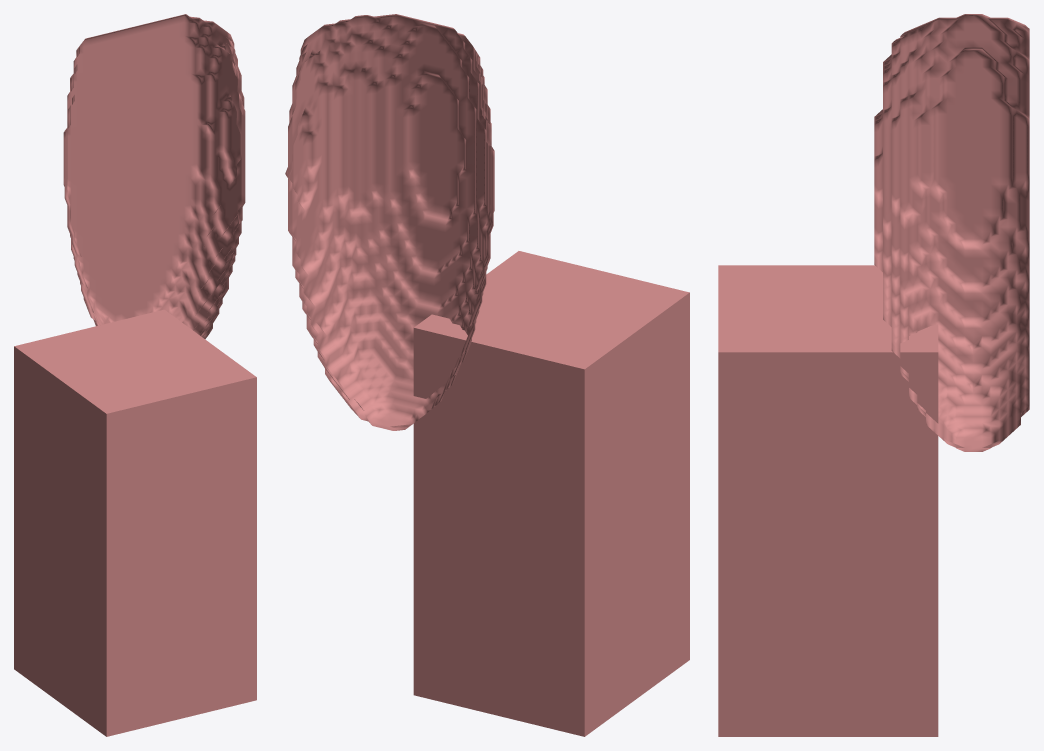
The model's file is 199511_occ.glb.
The picture shows the model from 3 angles, left to right: view 1: azimuth 30°, elevation 25°; view 2: azimuth 150°, elevation 25°; view 3: azimuth 270°, elevation 25°; orthographic projection. The views are drawn at different scales.
Visible parts, largest first — view 1: world; view 2: world; view 3: world.
Part boxes in pixels (<box>): world: <box>14,14,256,736</box>; world: <box>285,14,689,736</box>; world: <box>718,14,1029,736</box>.
Bounding box in the file's own units: 3.77 × 8.8 × 3.61.
